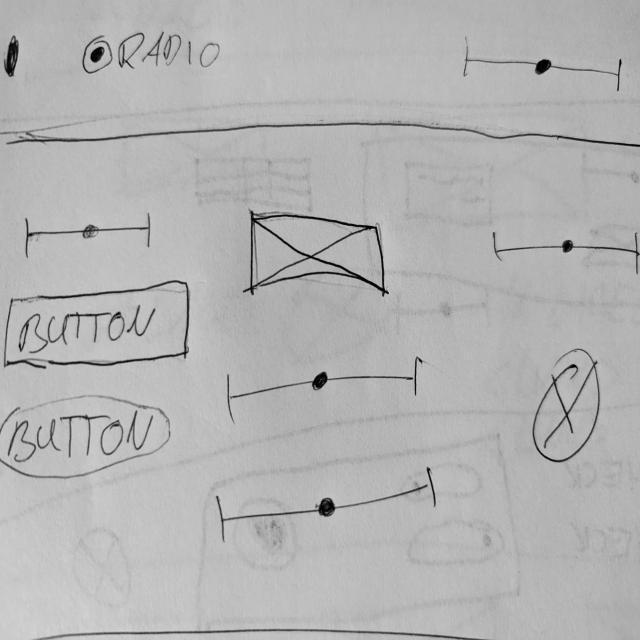button: (2, 277, 198, 375), (1, 393, 175, 483)
image: (246, 205, 389, 302), (528, 354, 607, 469)
radio: (81, 31, 225, 79)
slider: (213, 464, 441, 550), (225, 353, 425, 421), (460, 41, 628, 96), (490, 227, 640, 273), (22, 211, 157, 261)
